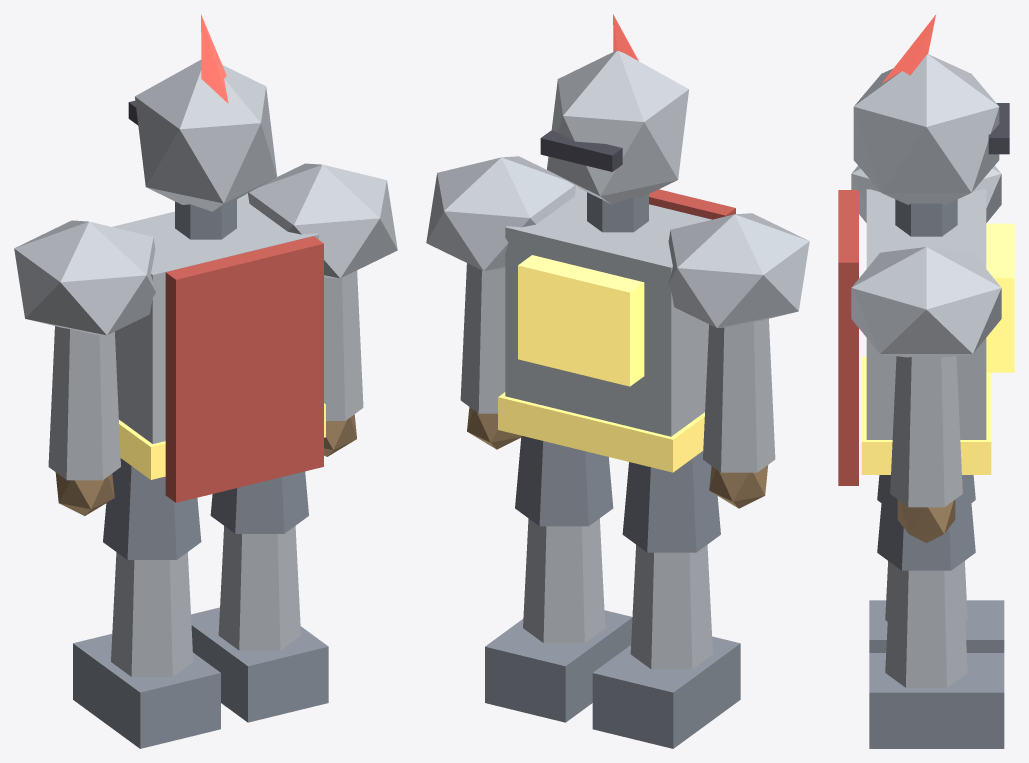
The model's file is knight.glb.
3 renders of one model, left to right at view 1: azimuth 30°, elevation 25°; view 2: azimuth 150°, elevation 25°; view 3: azimuth 270°, elevation 25°, orthographic.
Visible parts, largest first — view 1: KnightTorso; view 2: KnightTorso; view 3: KnightTorso.
Part boxes in pixels (x1,y1,x2,y2): KnightTorso: (14,14,397,748); KnightTorso: (426,14,809,748); KnightTorso: (838,14,1014,748).
Size of the model in its own units: 1.61 by 2.93 by 0.68.
